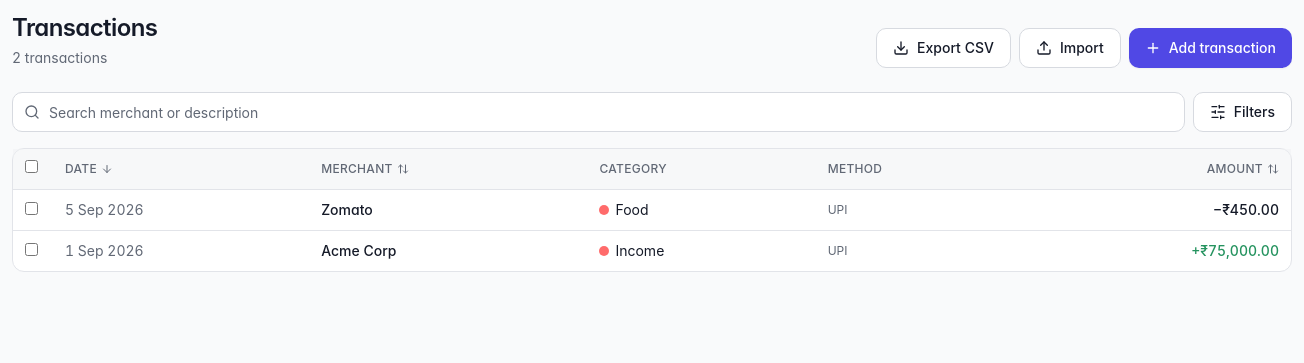
TransactionsPage › recategorizes the selected rows in bulk
expect the table named "Transactions" is shown: met, box [13, 149, 1291, 270]
Click the checkbox named "Select all on this page" at (32, 167), box [25, 160, 38, 173]
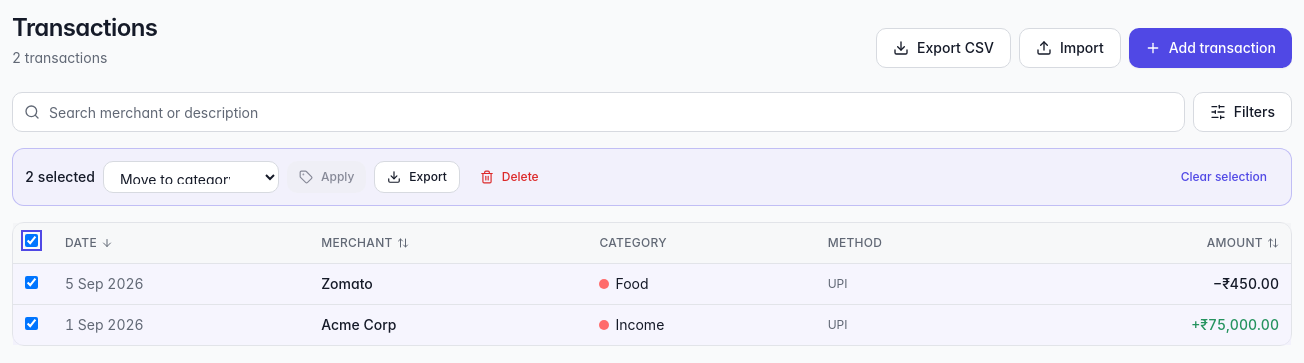
expect the text "2 selected" is shown: met, box [25, 167, 95, 187]
Select "Travel" in the dropdown named "New category for selected" at (191, 177), box [103, 161, 279, 193]
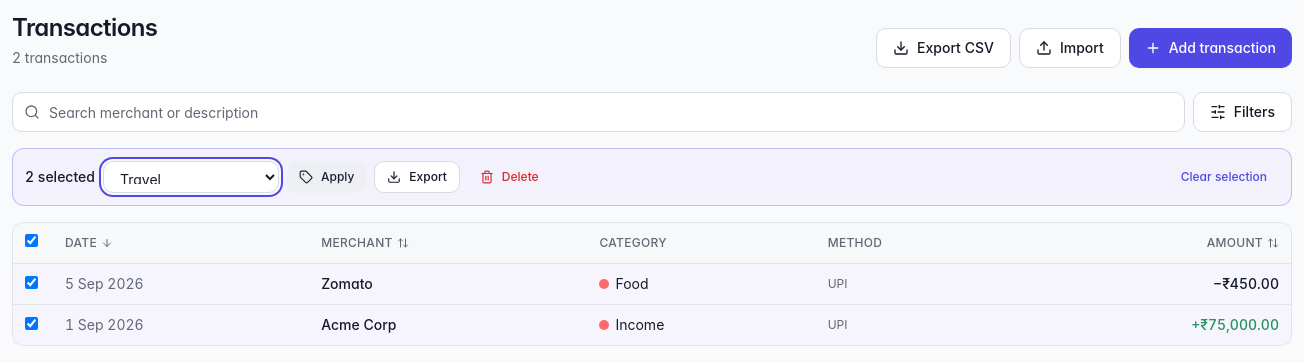
Click the button "Apply" at (327, 177), box [287, 161, 366, 193]
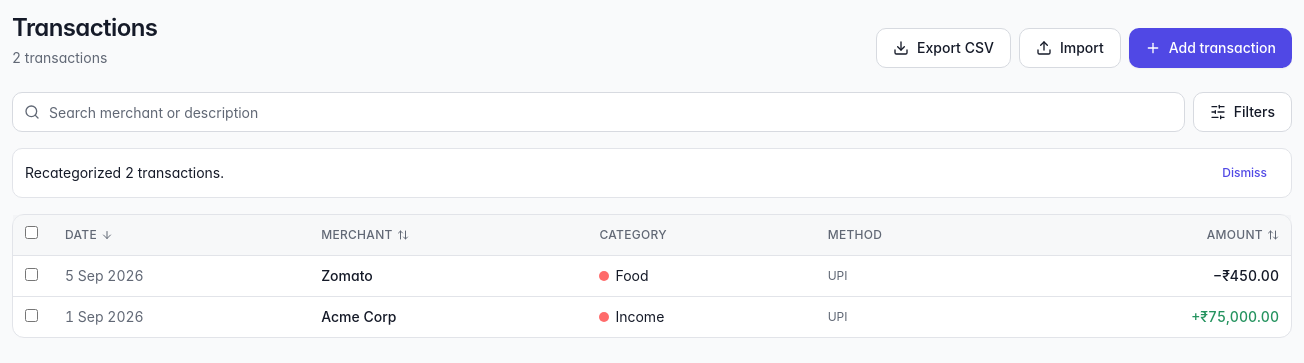
expect the text "Recategorized 2 transactions." is shown: met, box [25, 164, 224, 181]
